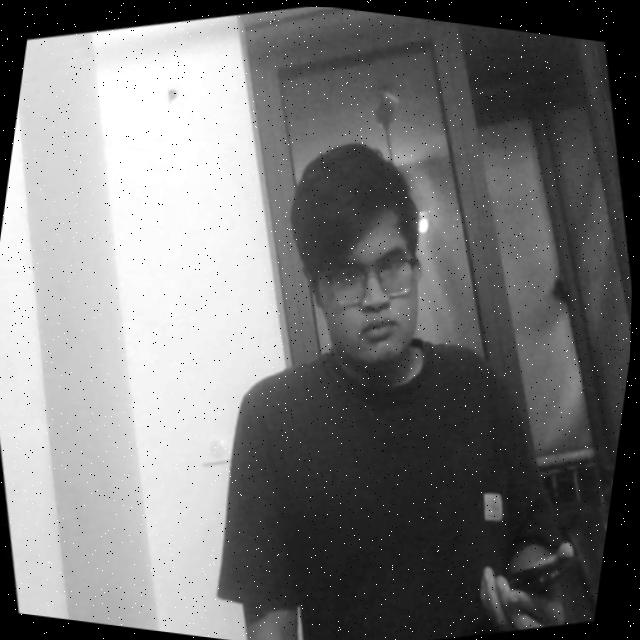phone: (464, 516, 609, 633)
